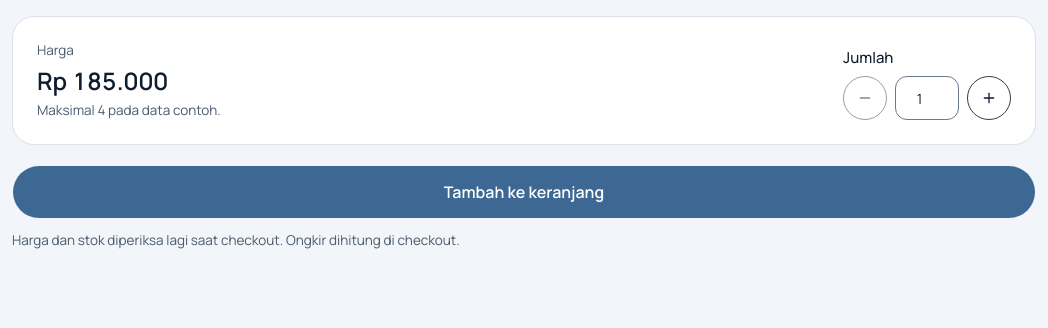
Test: product selection preview › selects the only variant from the start and never shows its placeholder name
Expected: the text "Maksimal 4 pada data contoh." is shown, left=37, top=101, right=221, bottom=119
Click the button "Tambah ke keranjang" at (524, 192), box left=12, top=165, right=1036, bottom=219
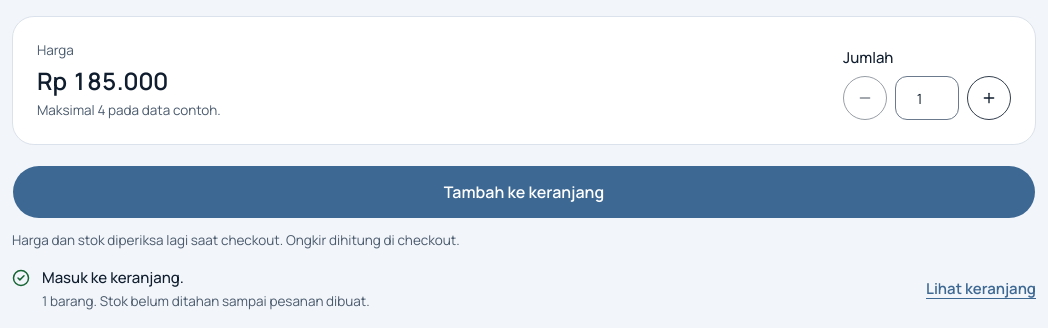
Now the text "Masuk ke keranjang." is shown, box left=42, top=267, right=184, bottom=288
Now the text "1 barang. Stok belum ditahan sampai pesanan dibuat." is shown, box left=42, top=292, right=370, bottom=311
